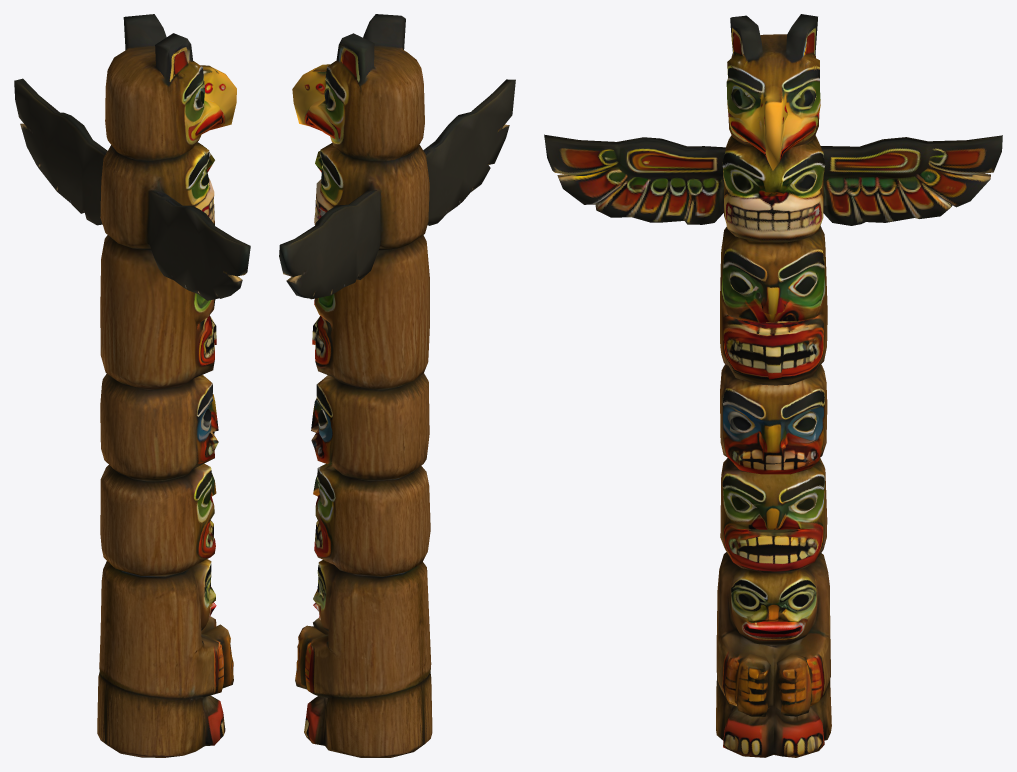
The model's file is totem.glb.
The picture shows the model from 3 angles, left to right: view 1: azimuth 30°, elevation 25°; view 2: azimuth 150°, elevation 25°; view 3: azimuth 270°, elevation 25°; orthographic projection.
Visible parts, largest first — view 1: tripo_node_48e6ecf1-ba42-4b85-8dc7-2208e8c8b2e1; view 2: tripo_node_48e6ecf1-ba42-4b85-8dc7-2208e8c8b2e1; view 3: tripo_node_48e6ecf1-ba42-4b85-8dc7-2208e8c8b2e1.
Boxes of the visible parts, x1,y1,x2,y2 form: tripo_node_48e6ecf1-ba42-4b85-8dc7-2208e8c8b2e1: [14, 14, 250, 757]; tripo_node_48e6ecf1-ba42-4b85-8dc7-2208e8c8b2e1: [279, 14, 515, 757]; tripo_node_48e6ecf1-ba42-4b85-8dc7-2208e8c8b2e1: [544, 14, 1002, 757].
Size of the model in its own units: 0.1901 by 0.9998 by 0.5843.
1 material, 1 textured.
